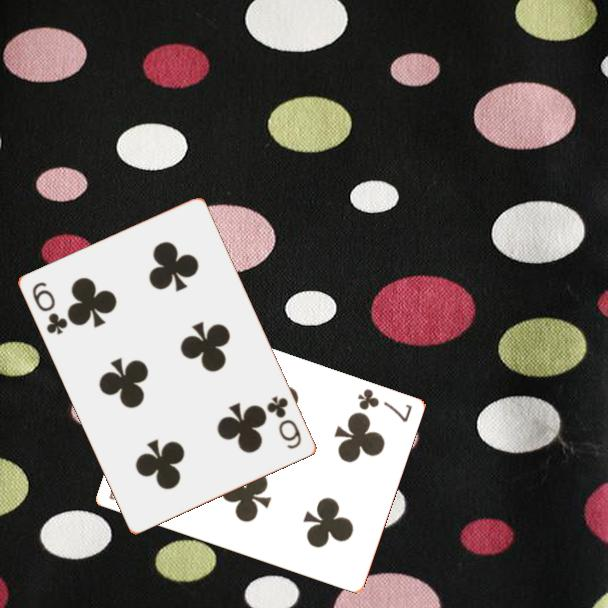c06: (29, 278, 71, 338), (263, 393, 305, 452)
c07: (353, 385, 415, 425)
